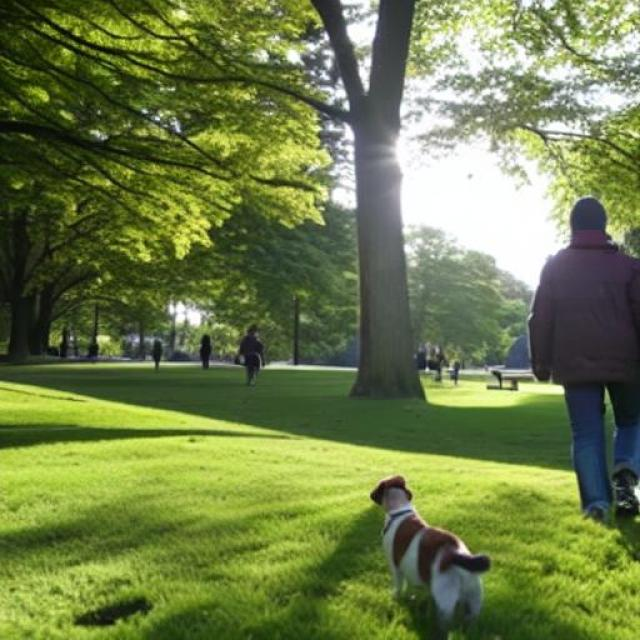Unleashed_Dog: (369, 383, 612, 638)
